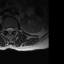CCS_normal: (8, 26, 11, 35)
LFS_normal: (13, 26, 15, 32)
LLS_normal: (11, 26, 13, 33)
RFS_normal: (4, 26, 6, 32)
RLS_normal: (6, 26, 8, 33)
